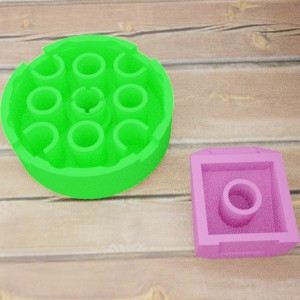lego: (0, 34, 173, 198), (189, 146, 300, 259)
